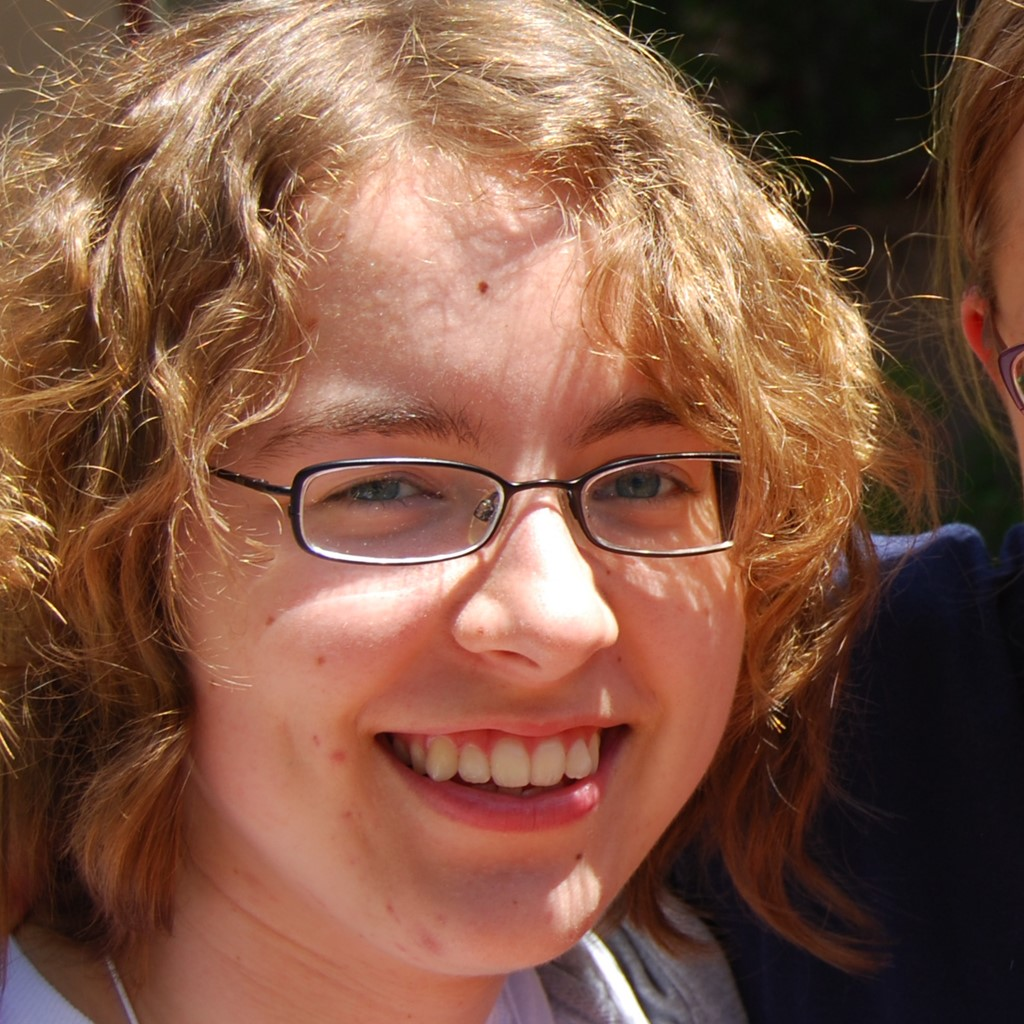sin_mascara: (169, 122, 748, 976)
